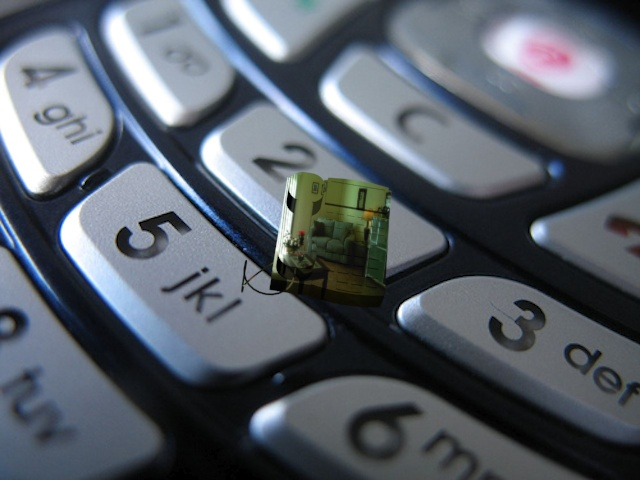phone: (240, 161, 401, 320)
